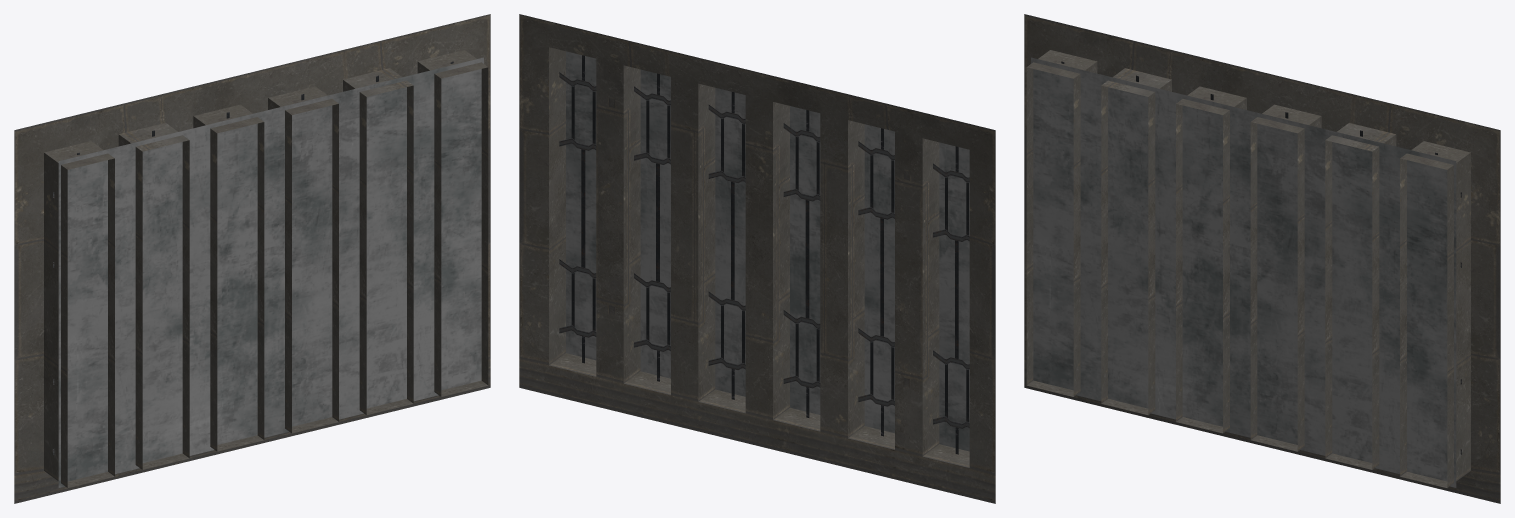
Rendered from ARC0910076.fbx.
3 renders of one model, left to right at view 1: azimuth 30°, elevation 25°; view 2: azimuth 150°, elevation 25°; view 3: azimuth 330°, elevation 25°, orthographic.
Visible parts, largest first — view 1: smARC0910076; view 2: smARC0910076; view 3: smARC0910076.
Part boxes in pixels (left/top/right/bottom): smARC0910076: left=14, top=14, right=490, bottom=503; smARC0910076: left=519, top=14, right=995, bottom=503; smARC0910076: left=1024, top=14, right=1500, bottom=503.
Bounding box in the file's own units: 400 × 300 × 37.28.
1 material, 1 textured.
